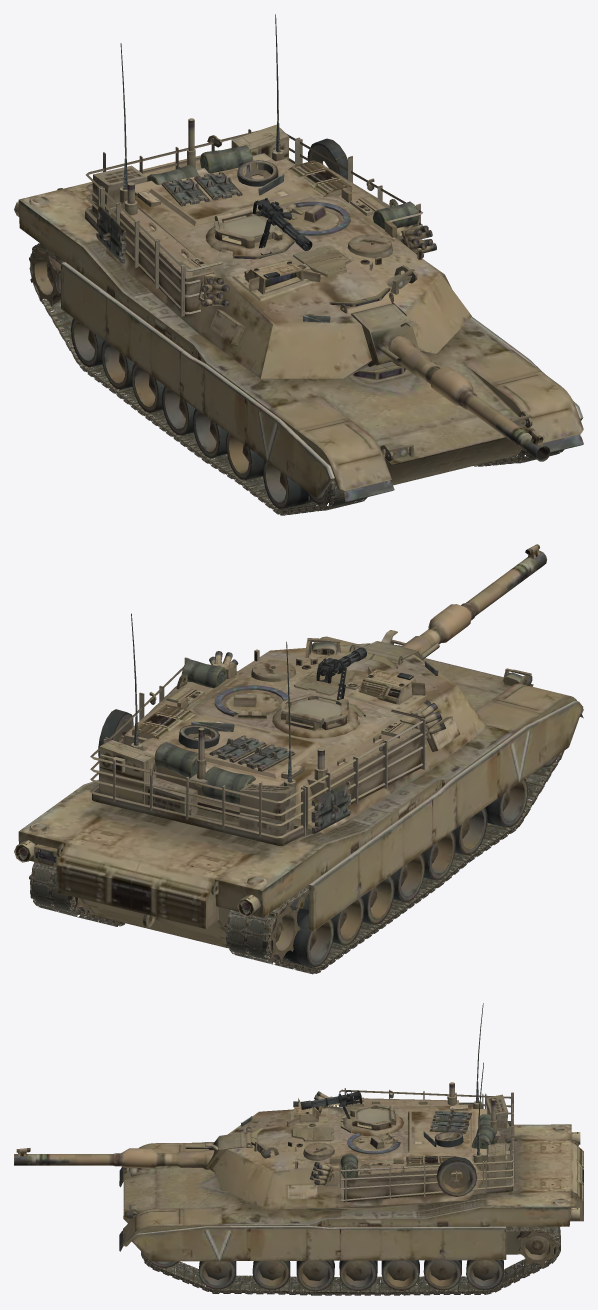
3 views of the same model, one above another, from view 1: azimuth 30°, elevation 25°; view 2: azimuth 150°, elevation 25°; view 3: azimuth 270°, elevation 25° (orthographic). The views are drawn at different scales.
Visible parts, largest first — view 1: Object_5, Object_2, Object_3; view 2: Object_5, Object_2, Object_3; view 3: Object_5, Object_2, Object_3.
Boxes of the visible parts, <box> form: Object_5: <box>14,14,583,508</box>; Object_2: <box>29,243,564,515</box>; Object_3: <box>253,198,312,250</box>; Object_5: <box>14,544,583,967</box>; Object_2: <box>30,751,564,974</box>; Object_3: <box>316,647,366,683</box>; Object_5: <box>14,1003,583,1291</box>; Object_2: <box>141,1226,560,1295</box>; Object_3: <box>300,1090,362,1109</box>.
Bounding box in the file's own units: 252 × 308 × 709.
Materials: 4 (4 with a texture image).
